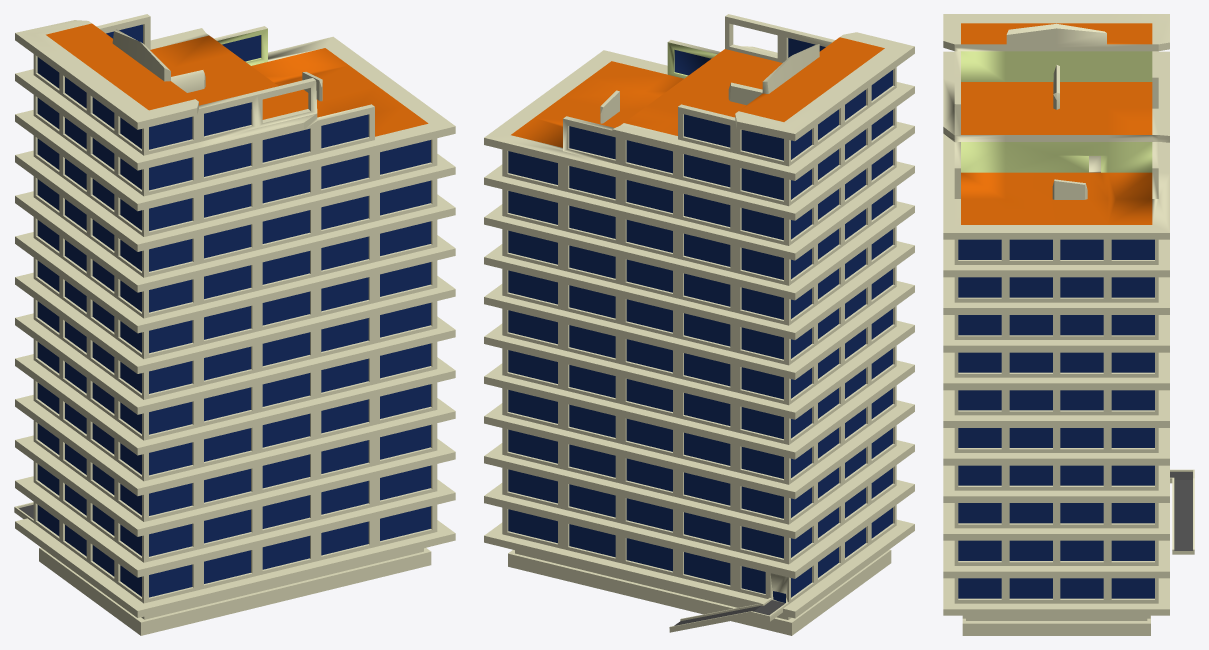
File: Building1BotBroken.fbx
The picture shows the model from 3 angles, left to right: view 1: azimuth 30°, elevation 25°; view 2: azimuth 150°, elevation 25°; view 3: azimuth 270°, elevation 25°; orthographic projection. The views are drawn at different scales.
Parts seen in each view (by area): view 1: B_Bottom; view 2: B_Bottom; view 3: B_Bottom.
Boxes of the visible parts, left/top/right/bottom form: B_Bottom: left=14, top=14, right=455, bottom=635; B_Bottom: left=484, top=14, right=914, bottom=635; B_Bottom: left=943, top=14, right=1194, bottom=635.
Bounding box in the file's own units: 3240 × 5340 × 2395.
